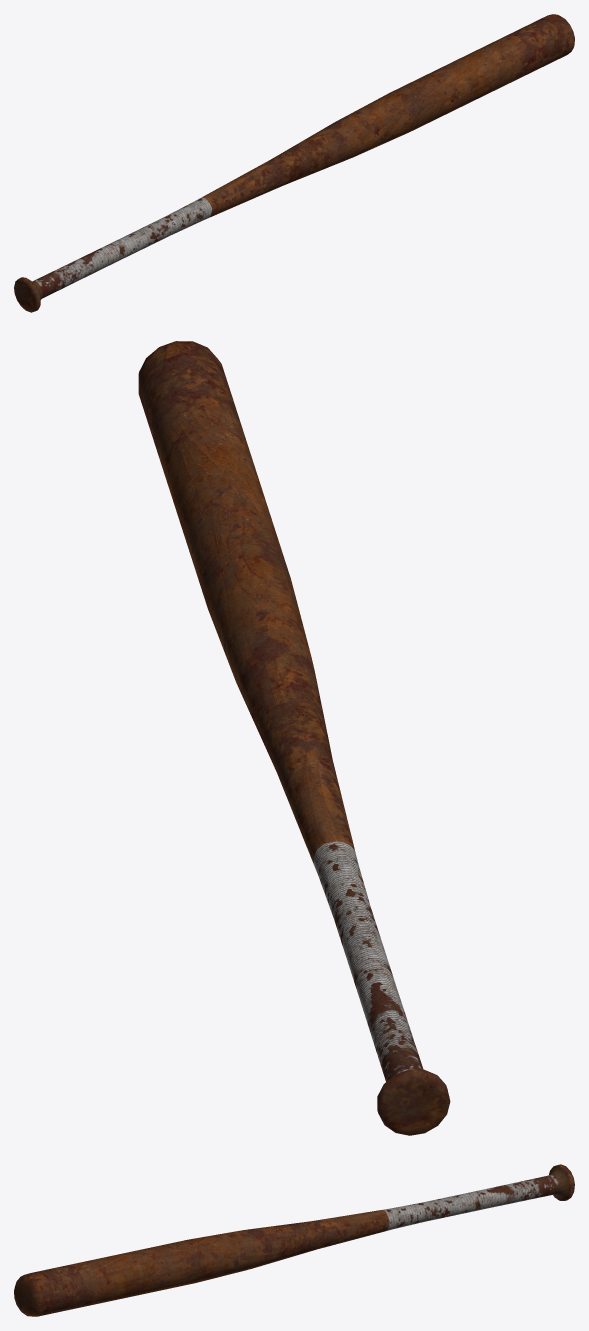
File: Anim_idle_bate_objetos.0045.obj
3 renders of one model, top to bottom at view 1: azimuth 90°, elevation 25°; view 2: azimuth 150°, elevation 25°; view 3: azimuth 270°, elevation 25°, orthographic. The views are drawn at different scales.
Parts seen in each view (by area): view 1: Bate1; view 2: Bate1; view 3: Bate1.
Part boxes in pixels (x1,y1,x2,y2): Bate1: [14, 14, 574, 312]; Bate1: [138, 341, 450, 1135]; Bate1: [14, 1164, 574, 1316].
Size of the model in its own units: 3.59 by 0.9174 by 4.24.
